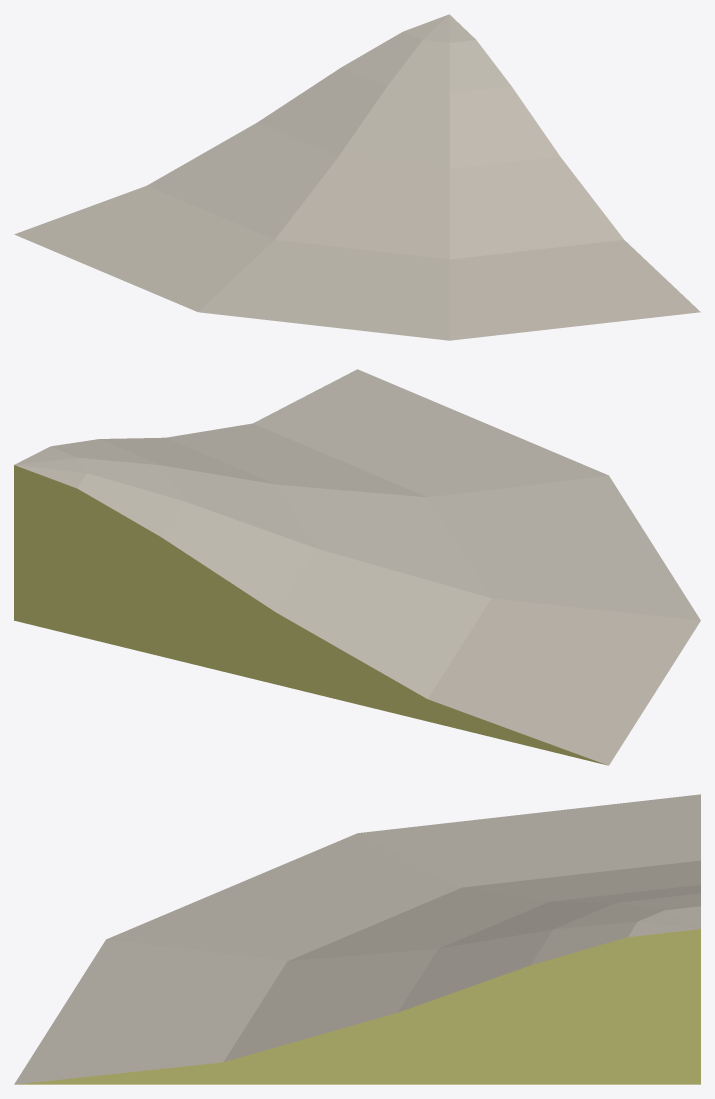
File: Floor_Curve_Outer_4x4.glb
3 views of the same model, one above another, from view 1: azimuth 30°, elevation 25°; view 2: azimuth 150°, elevation 25°; view 3: azimuth 270°, elevation 25° (orthographic). The views are drawn at different scales.
Parts seen in each view (by area): view 1: Floor_Curve_Outer_4x4; view 2: Floor_Curve_Outer_4x4; view 3: Floor_Curve_Outer_4x4.
Part boxes in pixels (bbox=[...]): Floor_Curve_Outer_4x4: bbox=[14, 14, 700, 340]; Floor_Curve_Outer_4x4: bbox=[14, 369, 700, 765]; Floor_Curve_Outer_4x4: bbox=[14, 794, 700, 1084].
Size of the model in its own units: 400 by 100 by 400.
